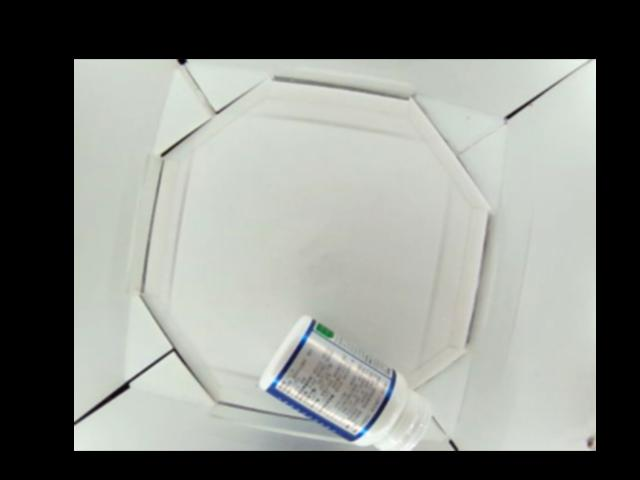Bottle: (256, 316, 432, 450)
